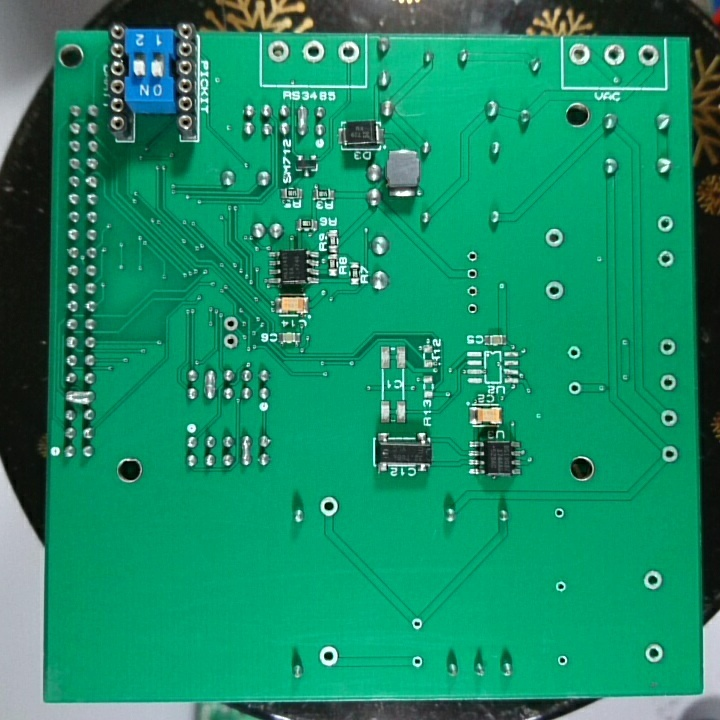F: (635, 42, 662, 73), (600, 42, 630, 68), (265, 38, 292, 66), (567, 42, 594, 68), (301, 37, 324, 66), (541, 227, 567, 252), (318, 643, 341, 671), (541, 279, 567, 303), (336, 40, 362, 63), (641, 568, 664, 593), (660, 440, 683, 464), (318, 495, 340, 520), (657, 371, 679, 395), (643, 641, 663, 666), (656, 248, 677, 271), (657, 335, 678, 358), (656, 215, 678, 236), (659, 406, 679, 429), (221, 312, 241, 334), (564, 343, 584, 364), (219, 332, 241, 350), (553, 577, 570, 596), (464, 299, 481, 318), (567, 380, 584, 398), (464, 266, 481, 283), (410, 652, 425, 671), (410, 615, 425, 634), (465, 283, 482, 299), (464, 247, 479, 265), (555, 653, 570, 669), (552, 505, 568, 520)
P: (61, 386, 99, 405), (201, 367, 218, 404), (294, 100, 310, 138), (239, 430, 253, 471)
